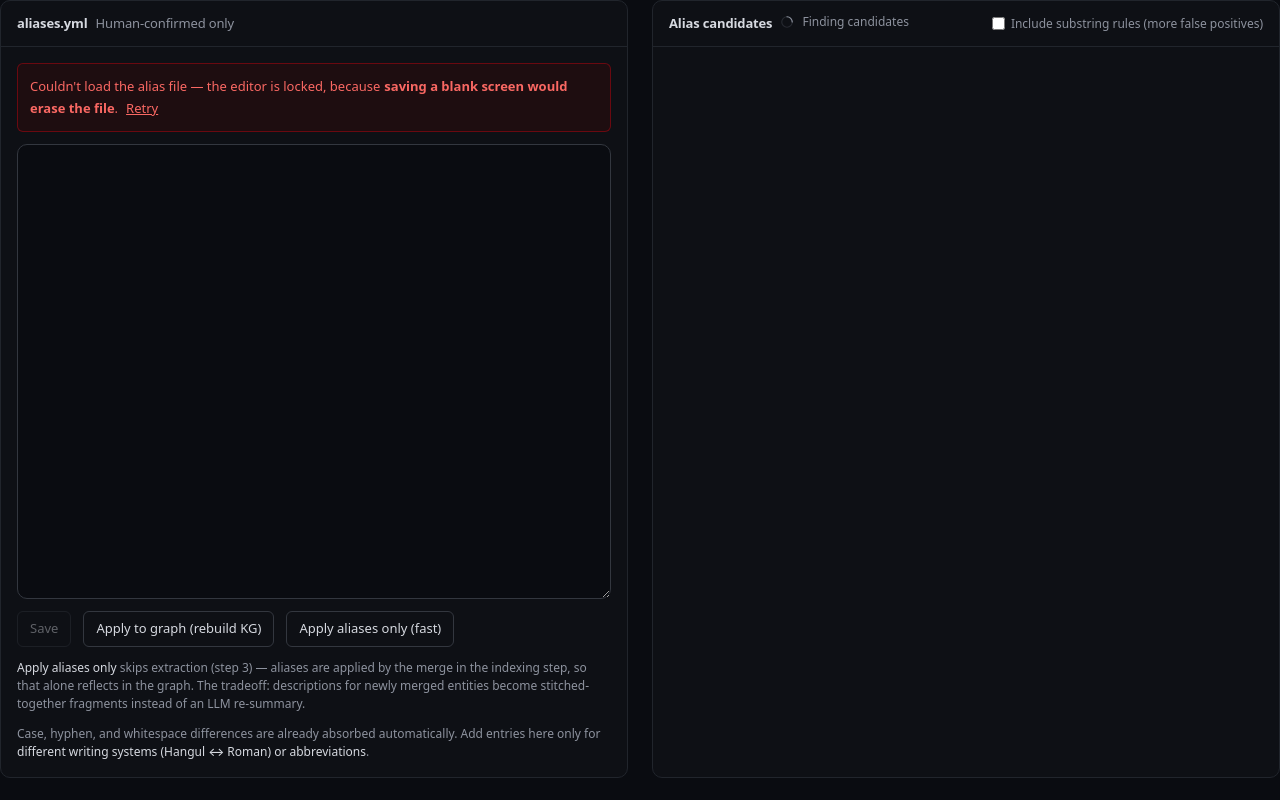
Test case: AliasPanel — the candidate list › an earlier request arriving late cannot overwrite the screen
Click the checkbox labelled "Include substring rules (more false positives)".
click(998, 24)  # box [992, 17, 1005, 30]
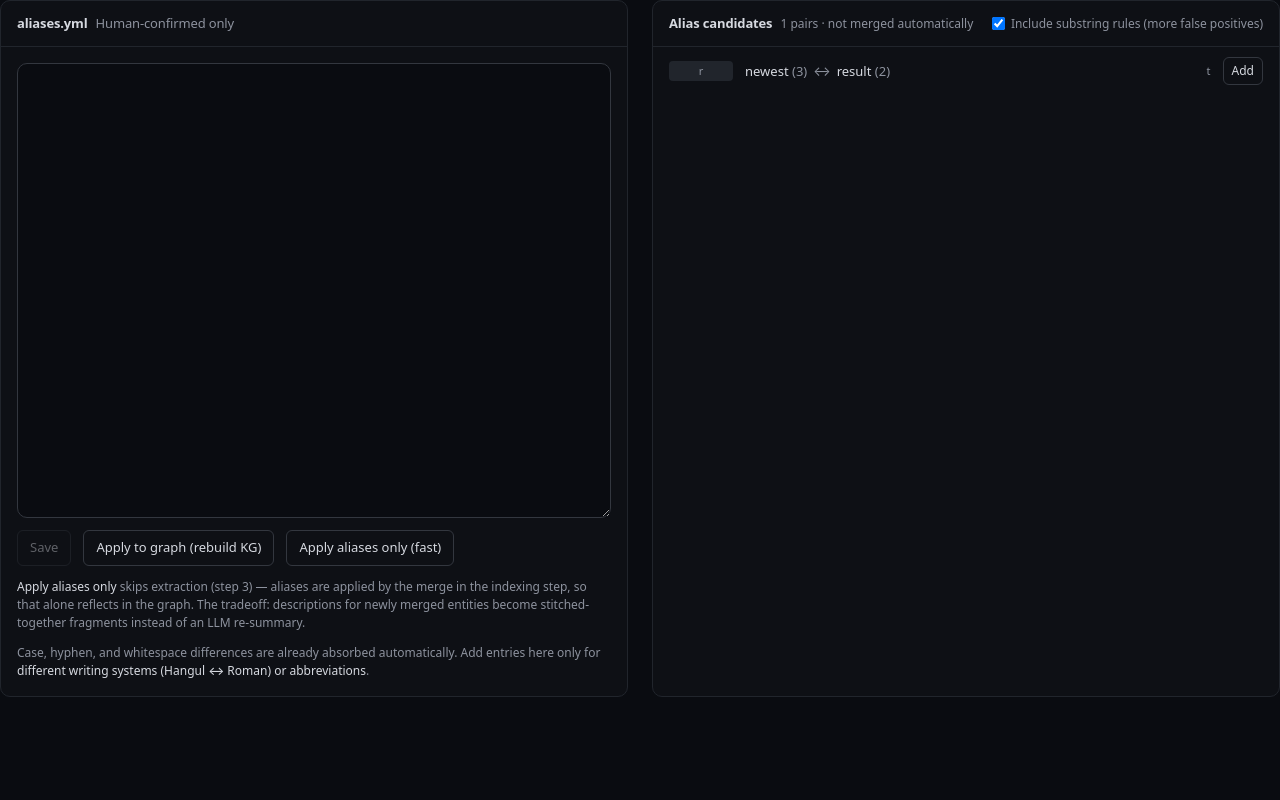
Now the text "newest (3)↔result (2)" is shown, box [745, 62, 890, 80]
